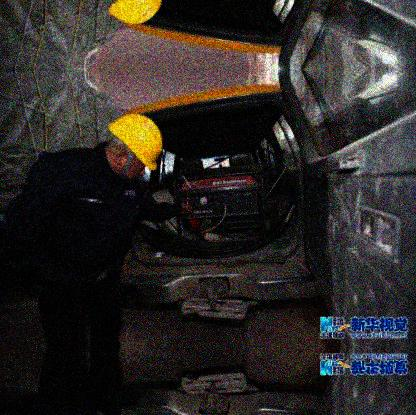helmet: (101, 111, 163, 185)
